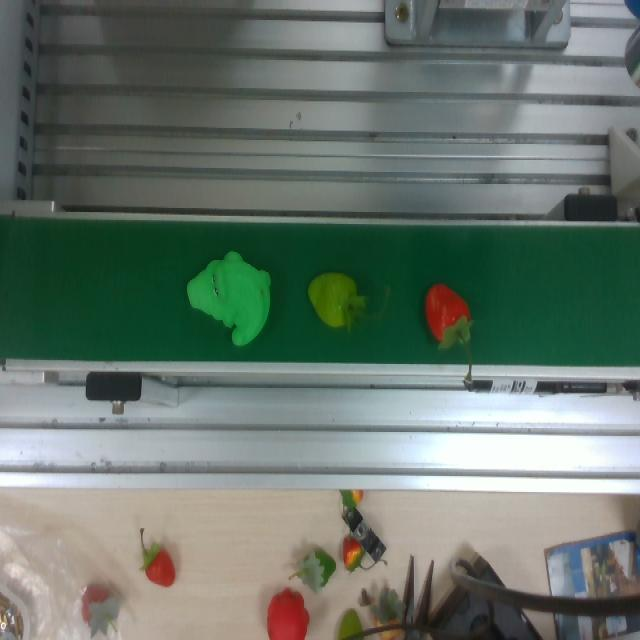Large Ripe Strawberry: (136, 524, 177, 589)
None - Strawberry: (177, 244, 276, 350)
Small Ripe Strawberry: (415, 277, 477, 354)
Small Unripe Strawberry: (305, 258, 365, 334)
conveyor: (4, 206, 640, 375)
